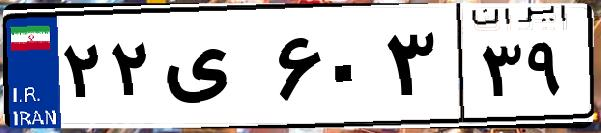0: (330, 28, 385, 110)
2: (57, 26, 110, 100), (110, 28, 158, 98)
3: (385, 28, 445, 110), (475, 38, 525, 113)
6: (270, 28, 330, 110)
9: (525, 38, 570, 115)
ی: (158, 20, 270, 120)
